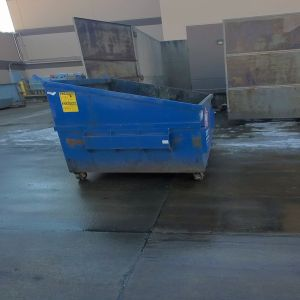Dumpster: (44, 80, 216, 184)
